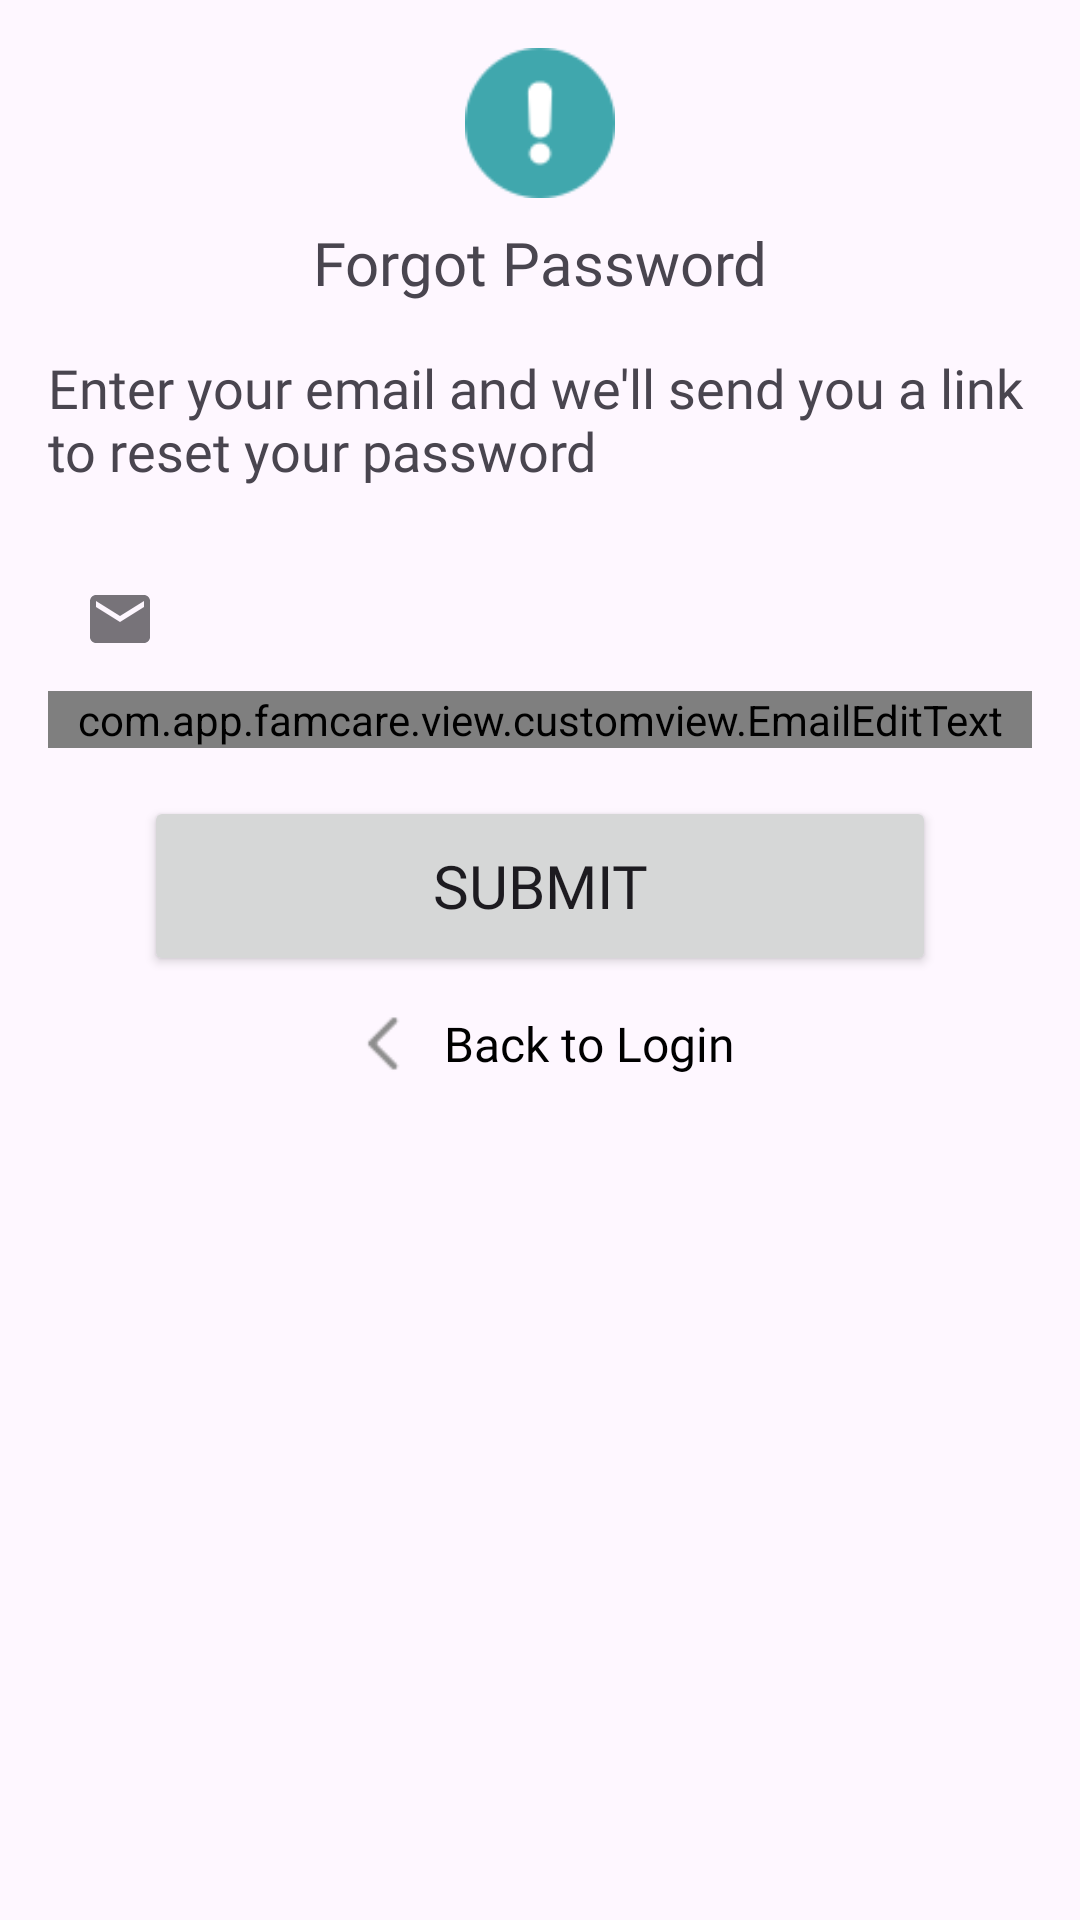

Where to tap for icons on this 1080 × 1920 app screen, as [x,y]:
arrowback: [383,1043]
warning: [540,123]
